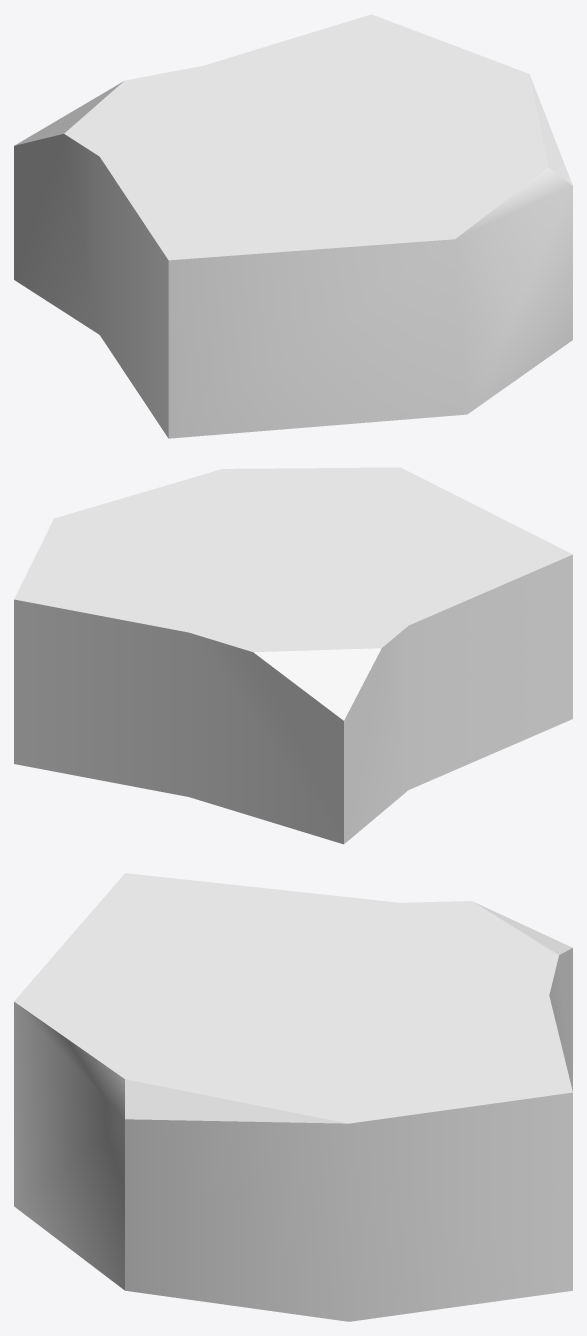
Rendered from Rock 22.FBX.
3 views of the same model, one above another, from view 1: azimuth 30°, elevation 25°; view 2: azimuth 150°, elevation 25°; view 3: azimuth 270°, elevation 25° (orthographic). The views are drawn at different scales.
Visible parts, largest first — view 1: Box001; view 2: Box001; view 3: Box001.
Part boxes in pixels (bbox=[...]): Box001: bbox=[14, 14, 572, 438]; Box001: bbox=[14, 467, 572, 844]; Box001: bbox=[14, 873, 572, 1321].
Bounding box in the file's own units: 29.16 × 10.76 × 27.5.
